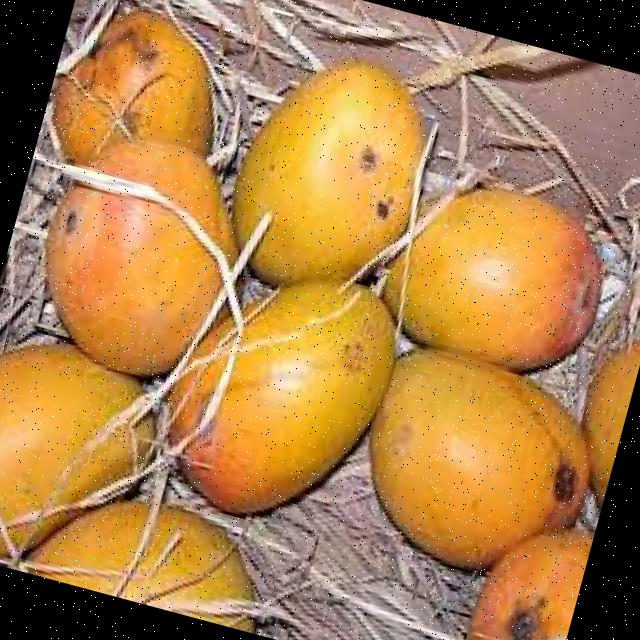mango: (231, 70, 427, 290)
